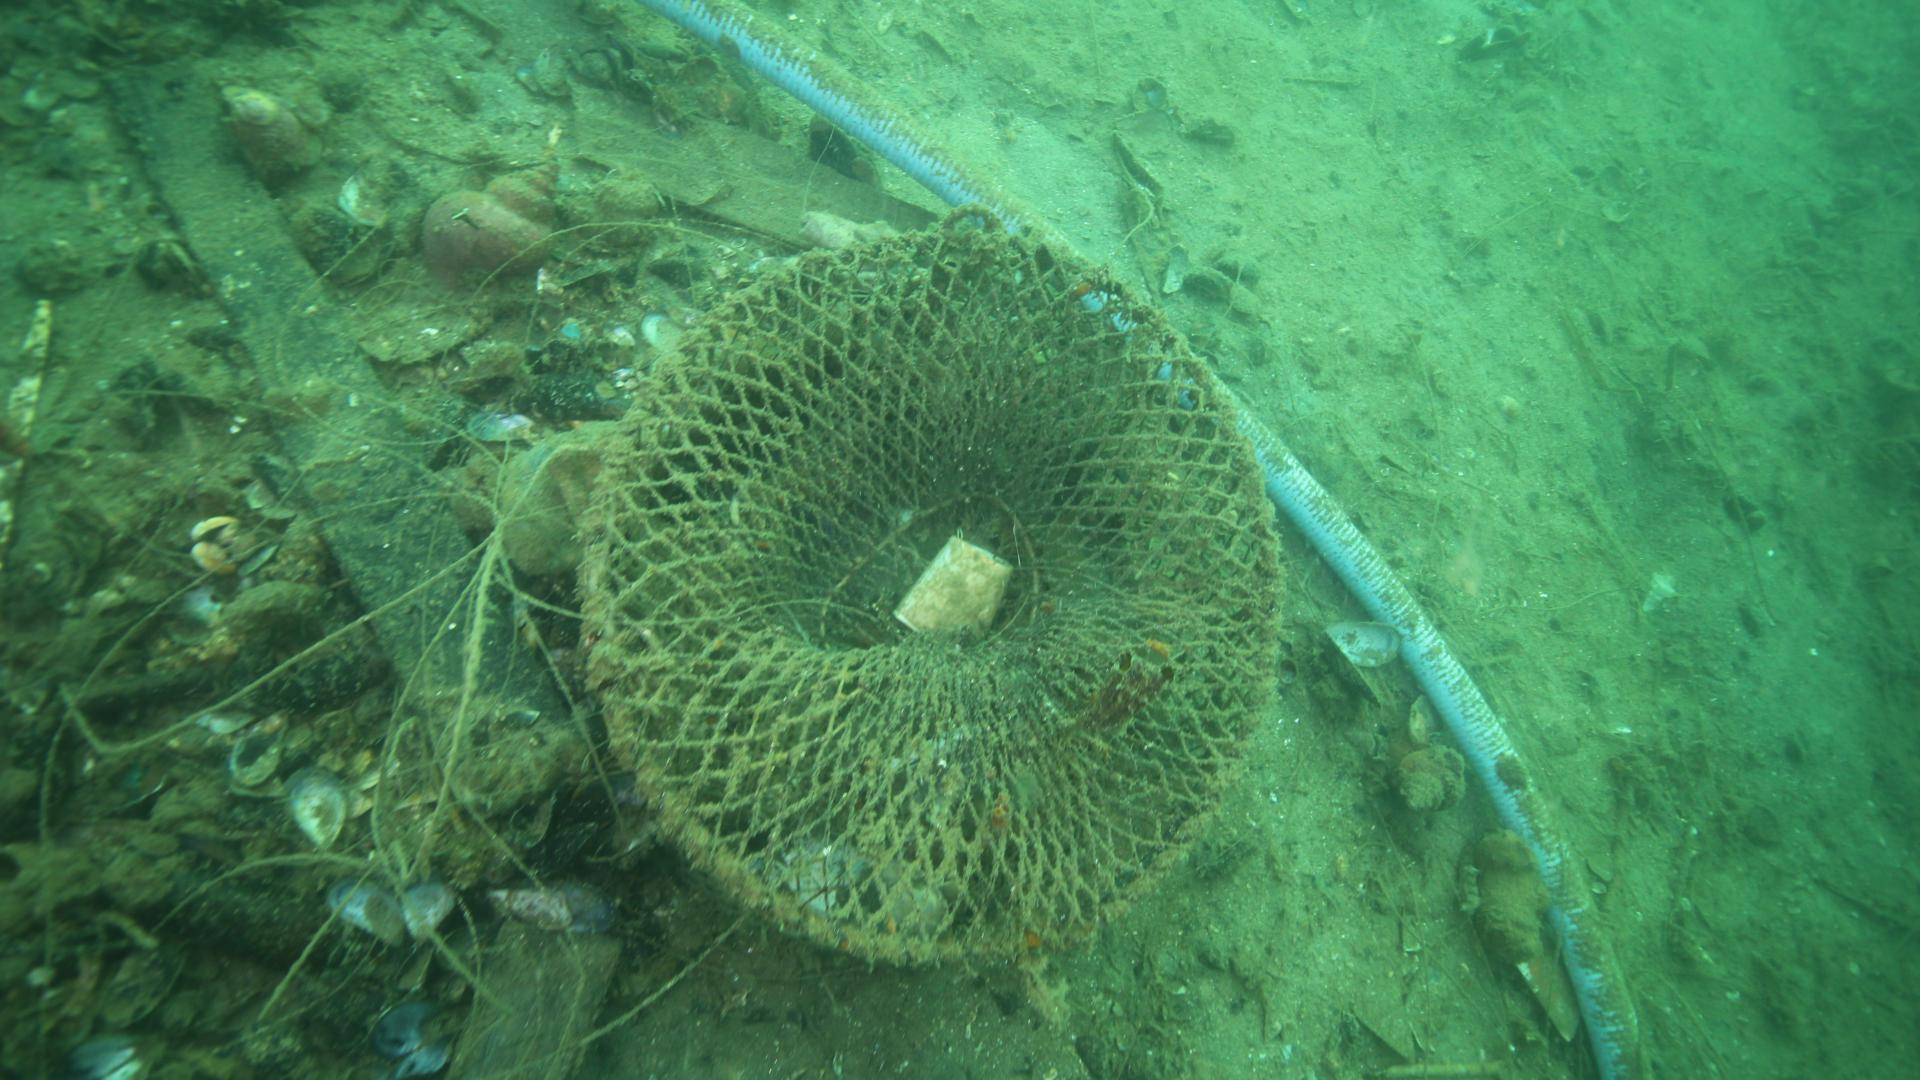circular fish trap: (563, 225, 1291, 977)
